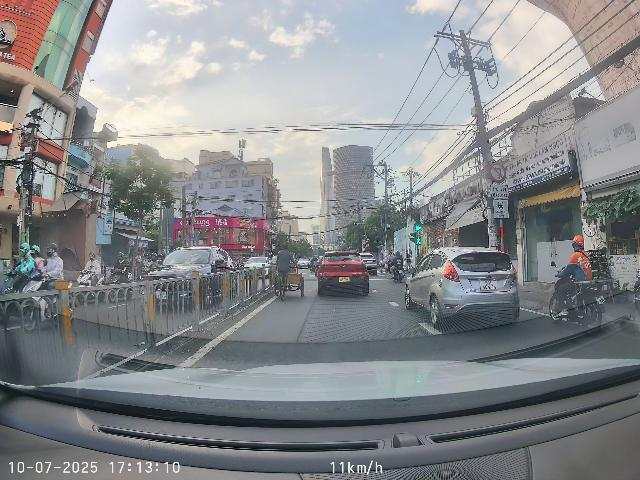103c-cam-oto-re-trai: (489, 163, 506, 183)
